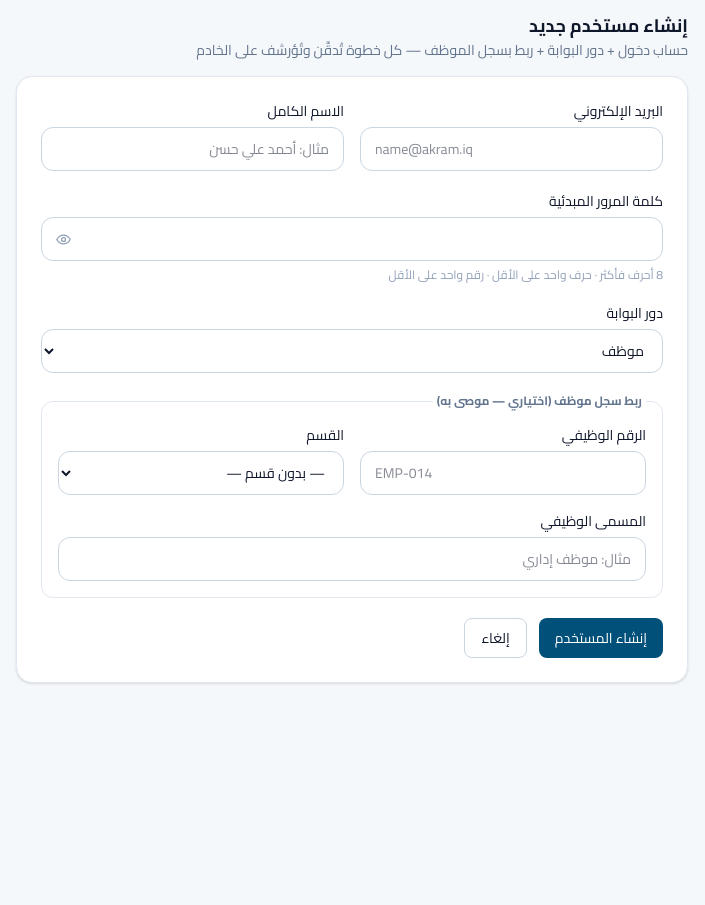
Test case: CreateUser — إنشاء مستخدم › يعرض قاطعي الكرادة والزعفرانية ومناطقهما الثماني
The width and height of the screenshot is (705, 905).
Select "مسؤول قسم" in the dropdown with test id "create-role": [352, 351] box [41,329,663,373]
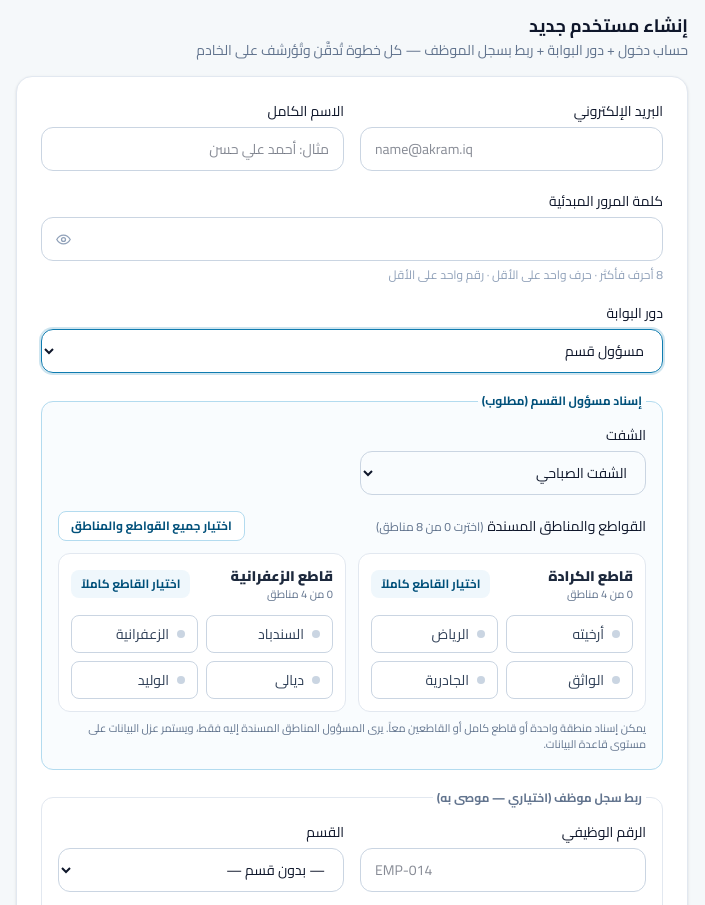
Now the heading "قاطع الكرادة" is shown, box [548,566,633,586]
Now the heading "قاطع الزعفرانية" is shown, box [231,566,333,586]
Now the checkbox "أرخيته" is shown, box [506,614,633,652]
